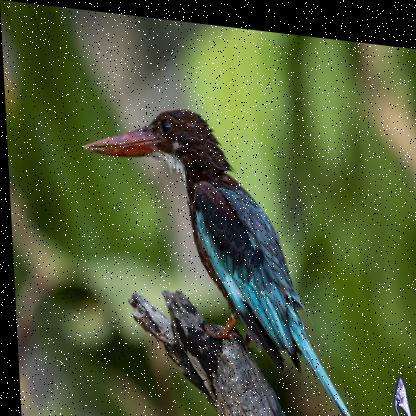Burung: (78, 94, 348, 415)
